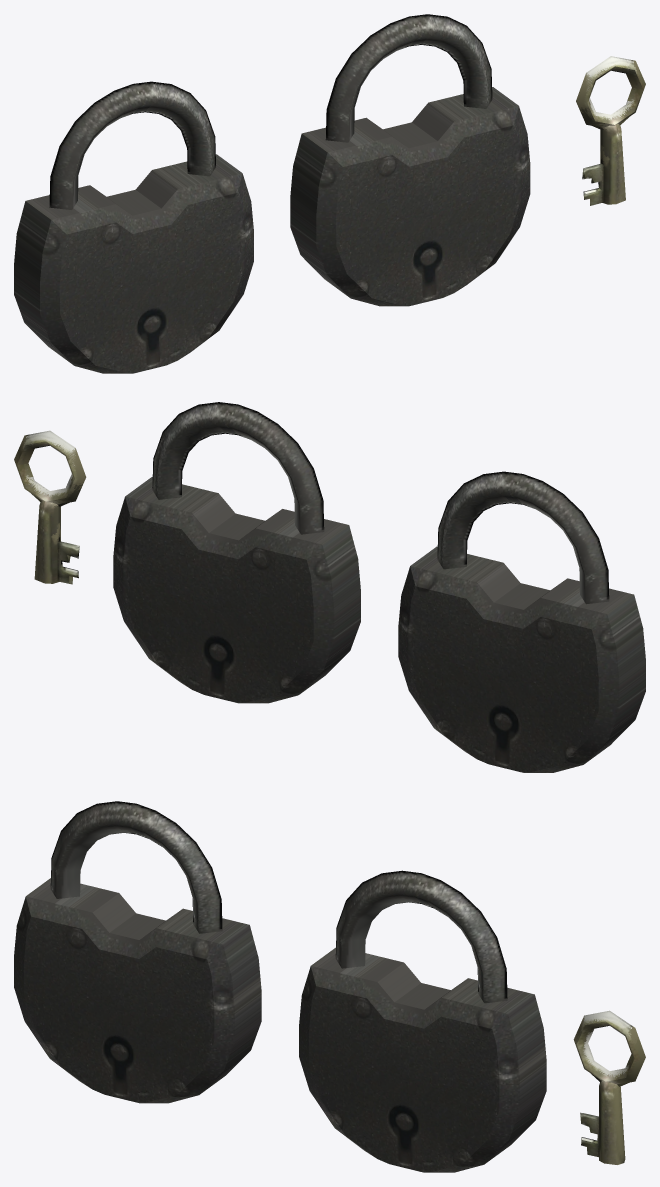
File: ключ и замочек.fbx
3 renders of one model, top to bottom at view 1: azimuth 30°, elevation 25°; view 2: azimuth 150°, elevation 25°; view 3: azimuth 330°, elevation 25°, orthographic. The views are drawn at different scales.
Visible parts, largest first — view 1: Cube, Cube.002, Cube.003, Cube.001; view 2: Cube, Cube.002, Cube.003, Cube.001; view 3: Cube, Cube.002, Cube.003, Cube.001.
Part boxes in pixels (x1,y1,x2,y2): Cube: [290, 14, 530, 306]; Cube.002: [14, 154, 253, 373]; Cube.003: [49, 81, 215, 209]; Cube.001: [576, 56, 645, 205]; Cube: [113, 402, 360, 703]; Cube.002: [398, 546, 645, 772]; Cube.003: [437, 471, 609, 604]; Cube.001: [14, 430, 86, 584]; Cube: [299, 870, 546, 1172]; Cube.002: [14, 878, 261, 1103]; Cube.003: [50, 801, 222, 933]; Cube.001: [573, 1010, 645, 1164].
Bounding box in the file's own units: 26.47 × 11.5 × 2.72.
2 materials, 2 textured.
